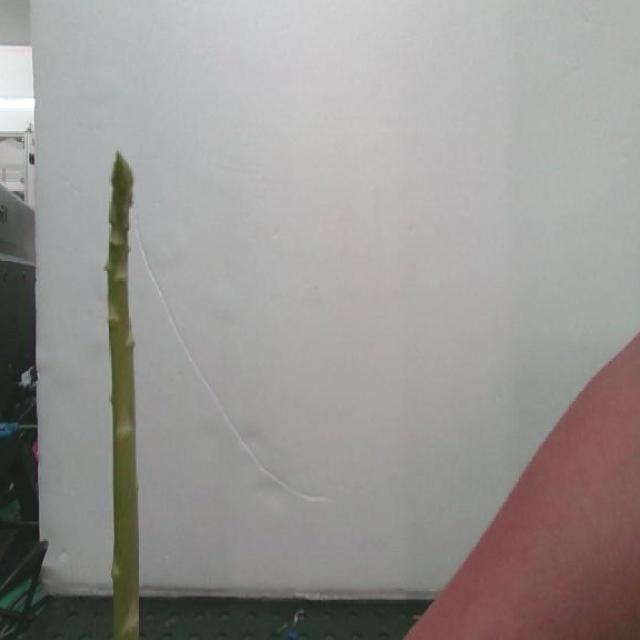aspargus: (103, 152, 137, 640)
